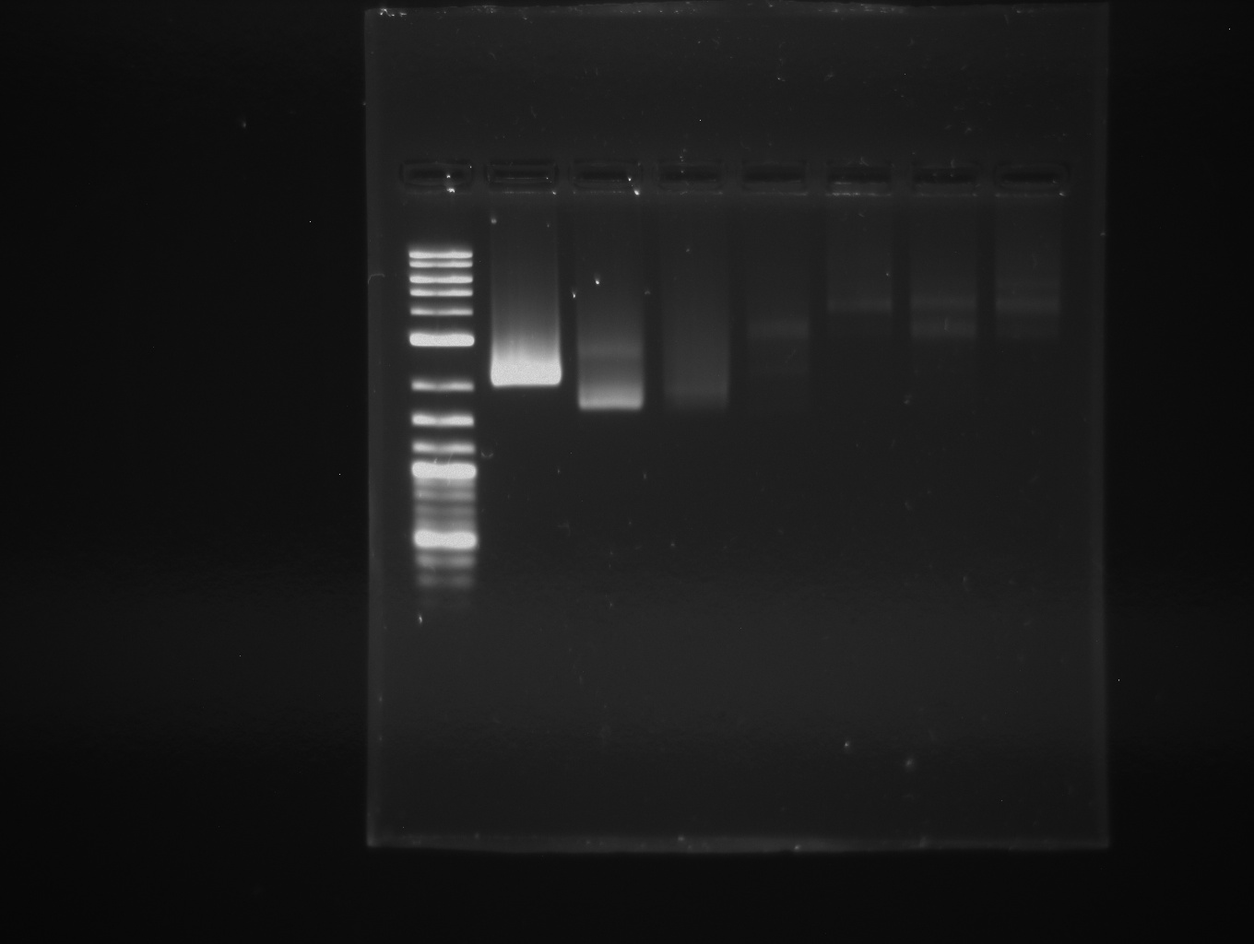Lane: (572, 152, 649, 850), (491, 159, 567, 853), (735, 159, 811, 846), (987, 157, 1060, 831), (655, 152, 725, 840), (823, 157, 890, 855), (906, 152, 972, 855)
ladder: (403, 159, 484, 861)
